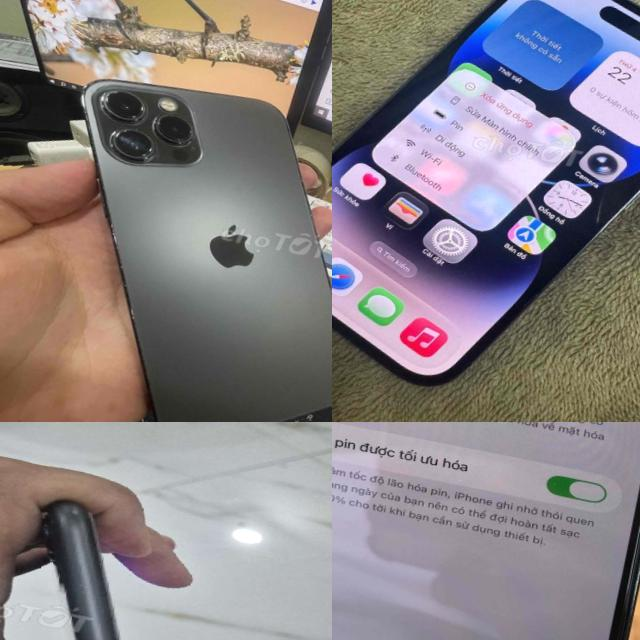gen_11: (0, 482, 190, 640)
gen_12_13: (16, 60, 332, 422), (332, 422, 640, 640)
gen_14: (332, 0, 640, 422)
